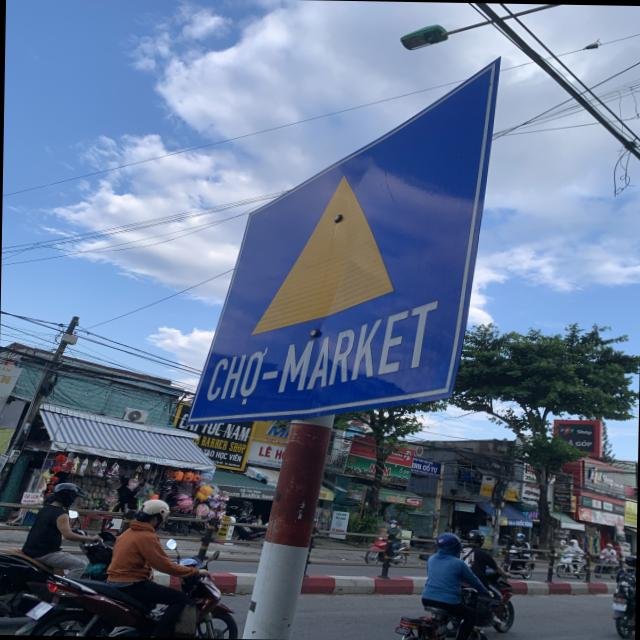Cho_Quay_Xe: (198, 56, 490, 410)
